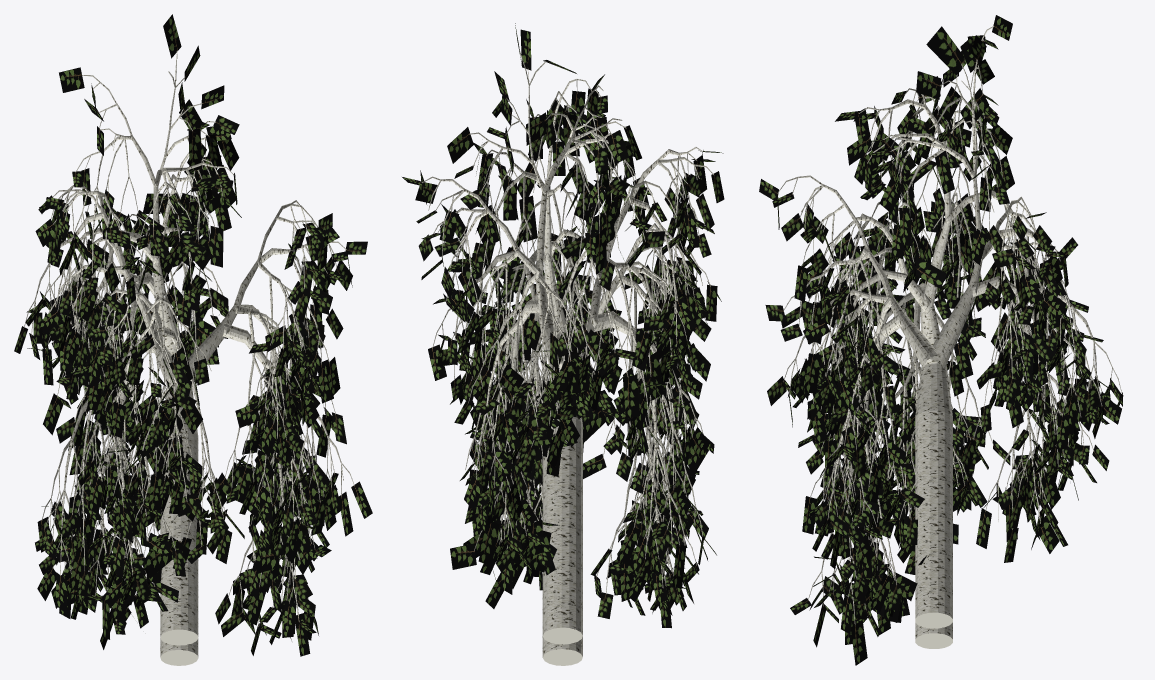
Rendered from tree_birch_3.glb.
3 renders of one model, left to right at view 1: azimuth 30°, elevation 25°; view 2: azimuth 150°, elevation 25°; view 3: azimuth 270°, elevation 25°, orthographic. The views are drawn at different scales.
Visible parts, largest first — view 1: Trunk, Trunk.Stump, Trunk#7, Trunk#2, Trunk#8; view 2: Trunk, Trunk.Stump, Leaf#1290, Leaf#59, Branch#100, Leaf#17, Leaf#753, Leaf#239, Trunk#12, Branch#844, Leaf#757, Leaf#1143 (+1 smaller); view 3: Trunk, Trunk#2, Leaf#245, Trunk#7, Trunk.Stump, Trunk#14, Leaf#156.
Boxes of the visible parts, bbox=[...] form: Trunk: bbox=[152, 342, 198, 645]; Trunk.Stump: bbox=[160, 638, 198, 665]; Trunk#7: bbox=[187, 323, 225, 380]; Trunk#2: bbox=[154, 294, 181, 384]; Trunk#8: bbox=[222, 323, 267, 366]; Trunk: bbox=[542, 320, 596, 644]; Trunk.Stump: bbox=[542, 636, 582, 665]; Leaf#1290: bbox=[623, 375, 639, 418]; Leaf#59: bbox=[478, 519, 499, 566]; Branch#100: bbox=[536, 155, 566, 274]; Leaf#17: bbox=[450, 543, 476, 569]; Leaf#753: bbox=[519, 195, 537, 242]; Leaf#239: bbox=[447, 127, 473, 163]; Trunk#12: bbox=[593, 311, 633, 335]; Branch#844: bbox=[606, 160, 657, 258]; Leaf#757: bbox=[503, 180, 516, 220]; Leaf#1143: bbox=[616, 525, 640, 565]; Trunk: bbox=[915, 305, 952, 628]; Trunk#2: bbox=[925, 285, 975, 369]; Leaf#245: bbox=[926, 26, 964, 75]; Trunk#7: bbox=[898, 312, 941, 370]; Trunk.Stump: bbox=[915, 622, 952, 648]; Trunk#14: bbox=[922, 219, 950, 307]; Leaf#156: bbox=[911, 257, 946, 288].
Bounding box in the file's own units: 7.27 × 15.2 × 8.43.
Materials: 3 (3 with a texture image).
